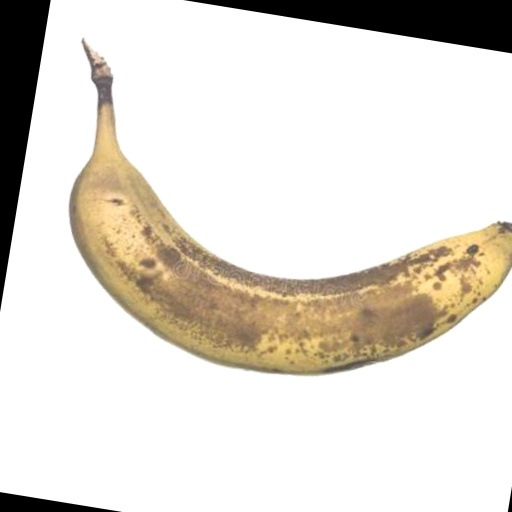fruit: (70, 41, 512, 374)
